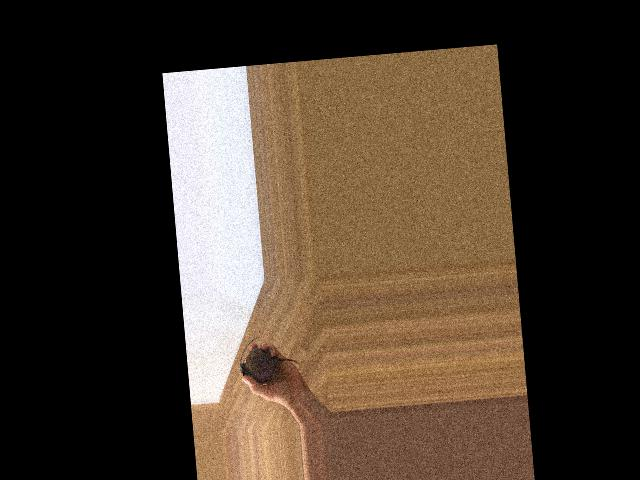beet: (237, 333, 300, 384)
